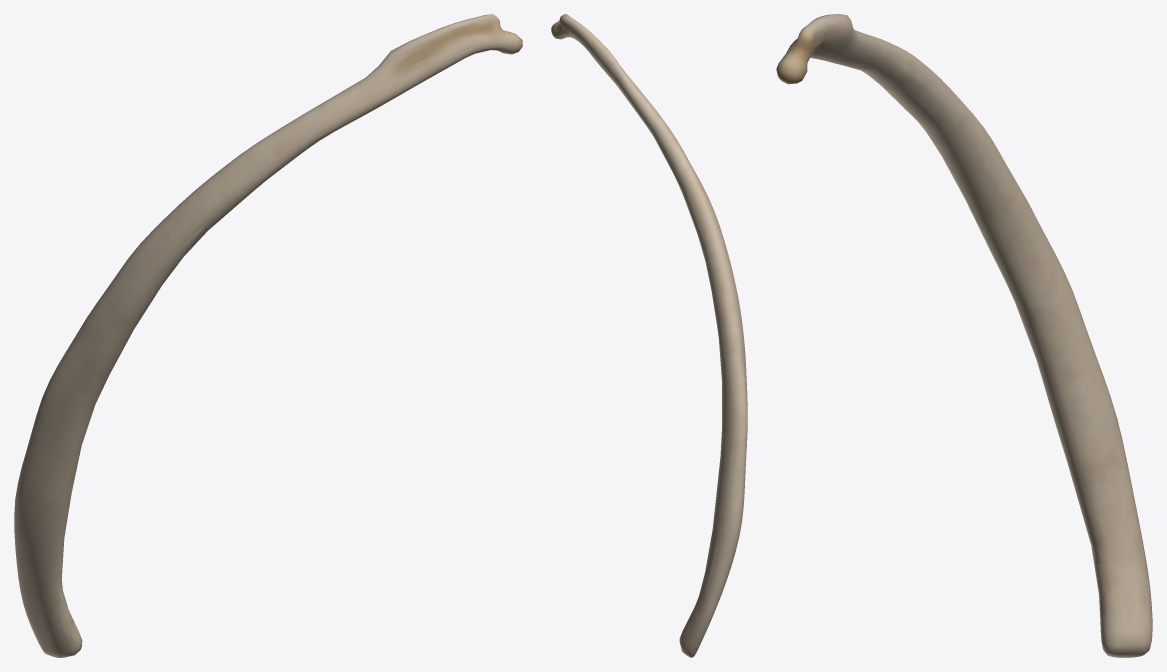
The model's file is Rib R11.fbx.
The picture shows the model from 3 angles, left to right: view 1: azimuth 30°, elevation 25°; view 2: azimuth 150°, elevation 25°; view 3: azimuth 270°, elevation 25°; orthographic projection. The views are drawn at different scales.
Parts seen in each view (by area): view 1: Rib R11, Rib R11 low; view 2: Rib R11, Rib R11 low; view 3: Rib R11 low, Rib R11.
Boxes of the visible parts, left/top/right/bottom form: Rib R11: left=14, top=14, right=522, bottom=657; Rib R11 low: left=16, top=14, right=522, bottom=655; Rib R11: left=551, top=14, right=747, bottom=657; Rib R11 low: left=551, top=14, right=747, bottom=654; Rib R11 low: left=777, top=17, right=1152, bottom=657; Rib R11: left=776, top=14, right=1152, bottom=657.
Size of the model in its own units: 25.37 by 43.17 by 18.27.
1 material, 1 textured.
